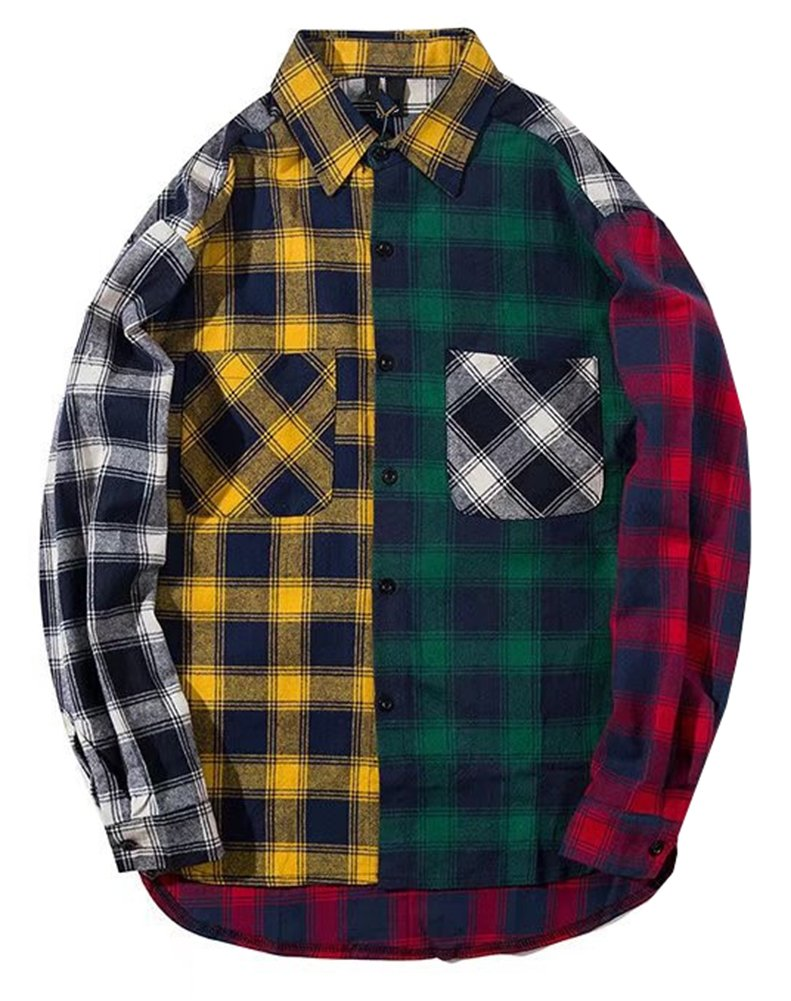long-sleeved official shirt: (40, 26, 745, 970)
